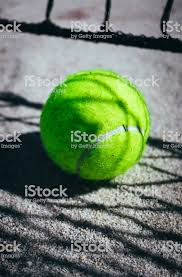tennis_ball: (40, 71, 150, 181)
